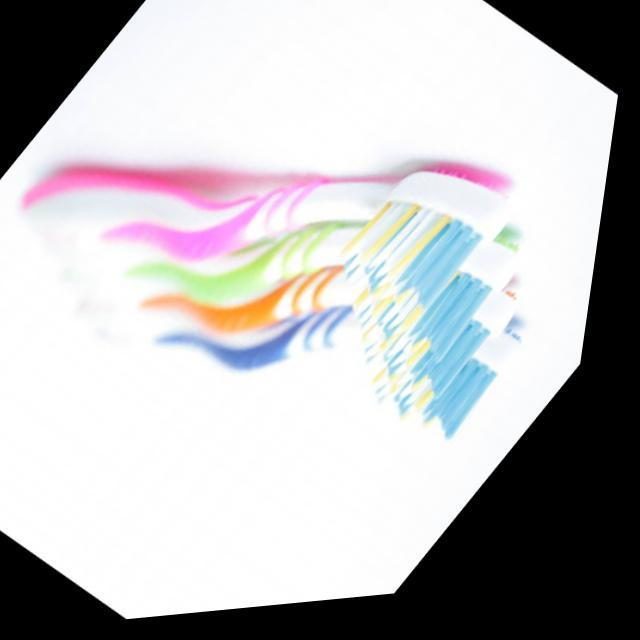toothbrush: (30, 168, 526, 320), (64, 232, 527, 368), (93, 272, 526, 402), (129, 313, 531, 451)
